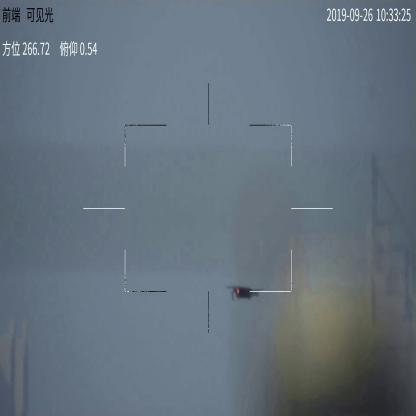uav: (227, 282, 265, 302)
